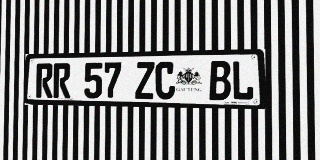5: (84, 63, 102, 99)
7: (103, 62, 122, 99)
B: (209, 61, 231, 100)
C: (155, 62, 175, 100)
L: (231, 60, 254, 101)
R: (53, 63, 71, 98), (36, 63, 53, 98)
Z: (135, 62, 155, 99)
